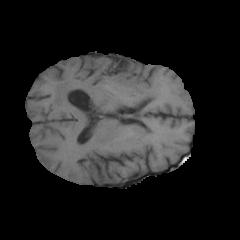glioma: (53, 62, 160, 111)
